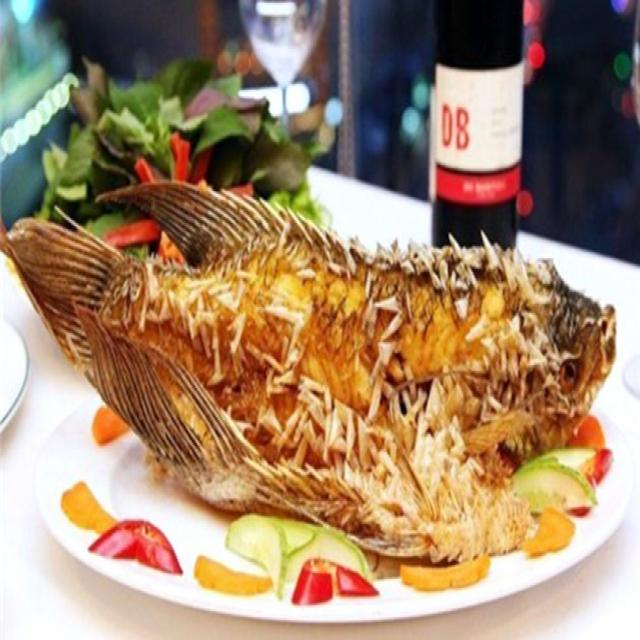Wet Waste: (7, 178, 624, 566)
